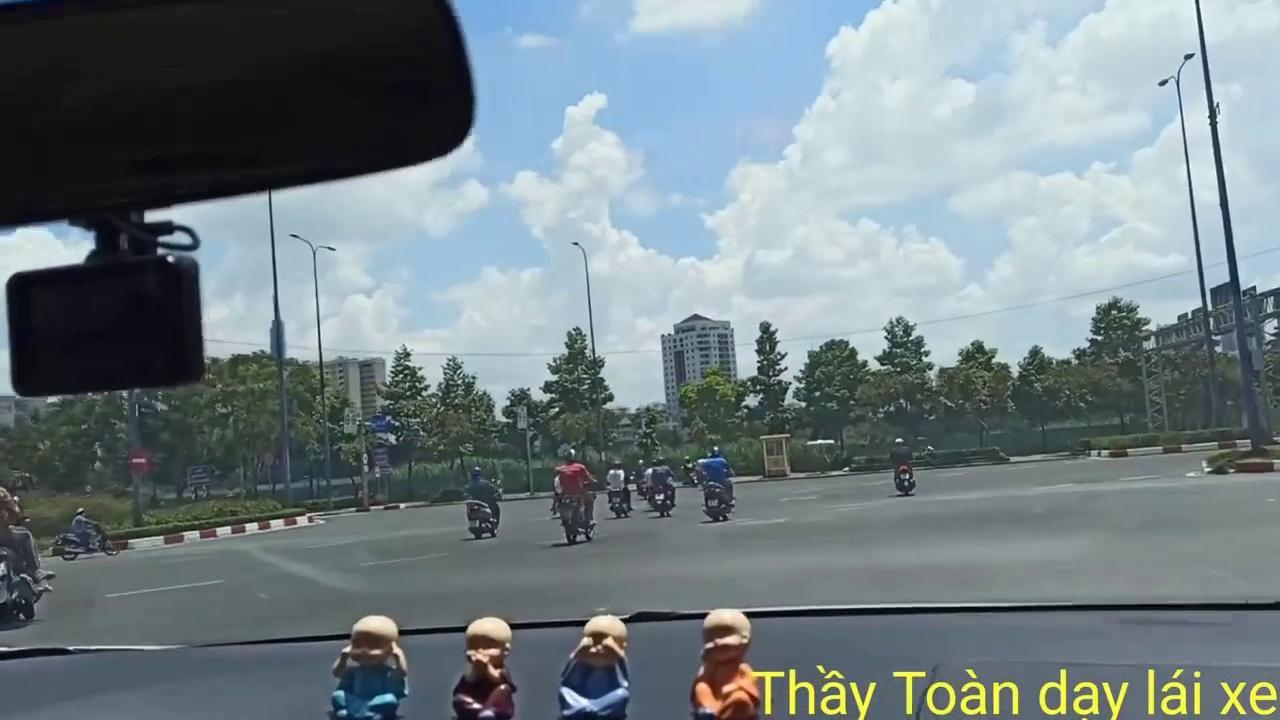Cấm cac phương tiện hoạt động trong khung giờ cố định: (344, 406, 358, 434)
Cấm đi ngược chiều: (128, 446, 151, 474)
